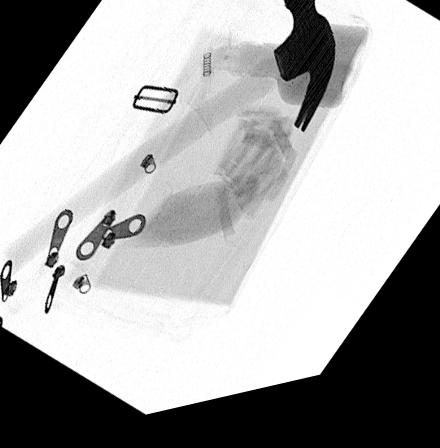Hammer: (3, 0, 337, 278)
